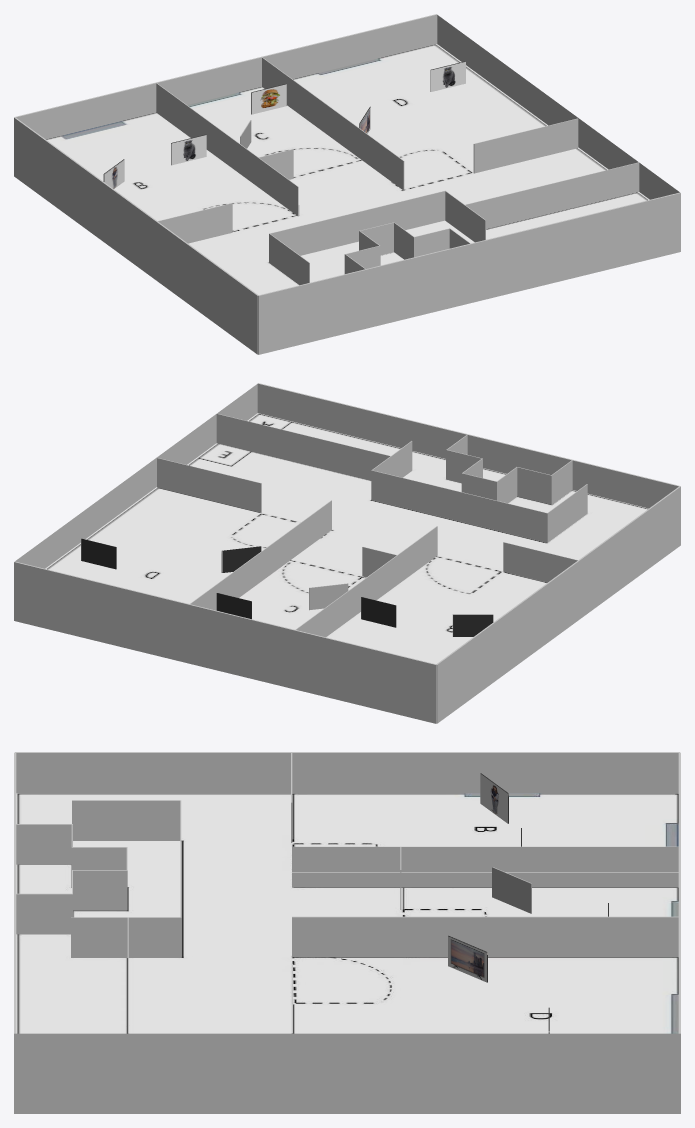
The model's file is xf_map.dae.
The picture shows the model from 3 angles, top to bottom: view 1: azimuth 30°, elevation 25°; view 2: azimuth 150°, elevation 25°; view 3: azimuth 270°, elevation 25°; orthographic projection. The views are drawn at different scales.
Parts seen in each view (by area): view 1: 平面, 立方体.017, 立方体.020, 立方体.018, 立方体.019, 立方体.006, 立方体.007, 立方体.001, 立方体.002, 立方体.005, 立方体.004, 立方体.008 (+9 smaller); view 2: 平面, 立方体.018, 立方体.020, 立方体.017, 立方体.019, 立方体.007, 立方体.006, 立方体.001, 立方体.002, 立方体.005, 立方体.004, 立方体.008 (+13 smaller); view 3: 平面, 立方体.019, 立方体.020, 立方体.002, 立方体.001, 立方体, 立方体.009, 立方体.008, 立方体.011, 立方体.010, 立方体.016, 立方体.015 (+5 smaller).
Part boxes in pixels (bbox=[...]): 平面: bbox=[46, 44, 649, 294]; 立方体.017: bbox=[258, 192, 680, 354]; 立方体.020: bbox=[14, 117, 258, 354]; 立方体.018: bbox=[14, 14, 437, 139]; 立方体.019: bbox=[437, 15, 679, 199]; 立方体.006: bbox=[464, 162, 639, 229]; 立方体.007: bbox=[269, 191, 445, 262]; 立方体.001: bbox=[156, 82, 298, 216]; 立方体.002: bbox=[262, 57, 404, 190]; 立方体.005: bbox=[473, 118, 578, 173]; 立方体.004: bbox=[158, 203, 232, 243]; 立方体.008: bbox=[269, 234, 309, 285]; 平面: bbox=[45, 413, 648, 663]; 立方体.018: bbox=[14, 561, 436, 723]; 立方体.020: bbox=[436, 486, 680, 723]; 立方体.017: bbox=[257, 383, 680, 508]; 立方体.019: bbox=[15, 384, 257, 568]; 立方体.007: bbox=[372, 470, 547, 542]; 立方体.006: bbox=[216, 413, 390, 480]; 立方体.001: bbox=[295, 526, 437, 637]; 立方体.002: bbox=[190, 500, 331, 610]; 立方体.005: bbox=[157, 458, 261, 512]; 立方体.004: bbox=[503, 542, 577, 582]; 立方体.008: bbox=[548, 484, 587, 542]; 平面: bbox=[16, 793, 678, 1033]; 立方体.019: bbox=[15, 1033, 679, 1113]; 立方体.020: bbox=[15, 752, 679, 793]; 立方体.002: bbox=[292, 916, 679, 957]; 立方体.001: bbox=[292, 846, 679, 871]; 立方体: bbox=[292, 872, 678, 887]; 立方体.009: bbox=[71, 917, 181, 957]; 立方体.008: bbox=[72, 800, 180, 840]; 立方体.011: bbox=[15, 893, 72, 934]; 立方体.010: bbox=[15, 824, 72, 864]; 立方体.016: bbox=[72, 870, 127, 910]; 立方体.015: bbox=[72, 847, 126, 869].
Bounding box in the file's own units: 6.01 × 6.02 × 0.8012.
